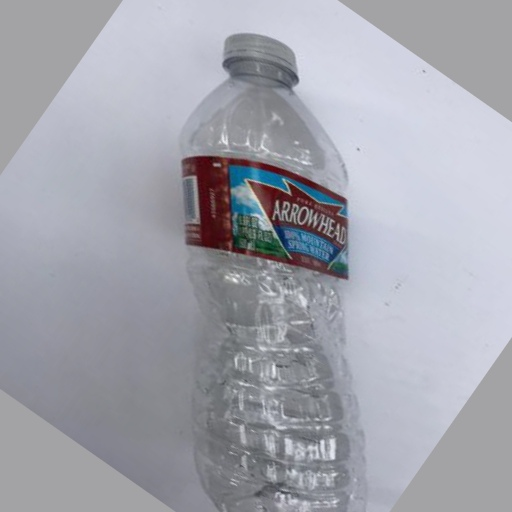Plastic_0: (174, 30, 369, 512)
